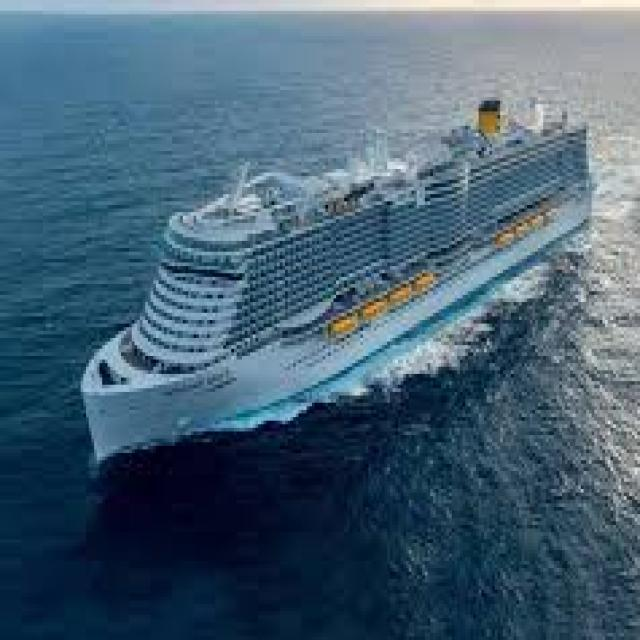passenger ship: (82, 87, 602, 466)
